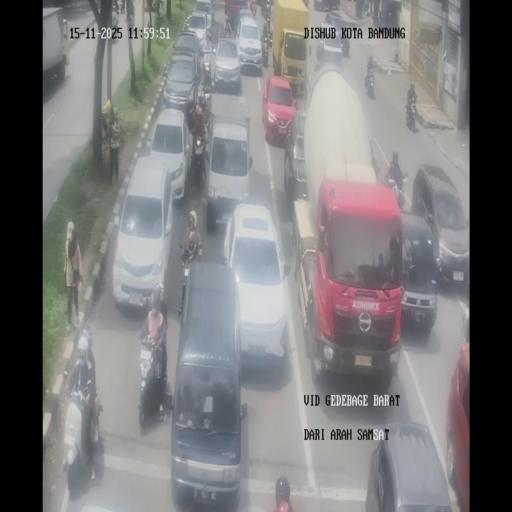car: (170, 264, 245, 506), (223, 202, 289, 365), (112, 169, 174, 314), (364, 424, 452, 510), (413, 166, 470, 284), (147, 106, 193, 199), (446, 336, 469, 506), (163, 48, 201, 122), (262, 74, 295, 147), (285, 126, 307, 208), (235, 12, 263, 75), (212, 35, 242, 92), (184, 10, 212, 50), (62, 18, 70, 66), (196, 0, 212, 15)
motorcycle: (62, 369, 100, 483), (138, 321, 170, 427), (177, 237, 202, 314), (188, 131, 208, 188), (386, 169, 408, 209), (194, 90, 211, 137), (200, 47, 214, 93), (405, 97, 417, 131), (261, 29, 270, 67), (186, 103, 196, 133), (365, 69, 375, 98), (261, 0, 272, 23), (224, 15, 234, 37), (250, 0, 257, 18), (158, 0, 166, 15), (112, 0, 119, 15), (118, 0, 126, 13)
truck: (302, 178, 404, 384), (206, 94, 252, 230), (292, 204, 318, 347), (272, 0, 310, 87), (42, 7, 66, 95), (324, 9, 353, 55)
